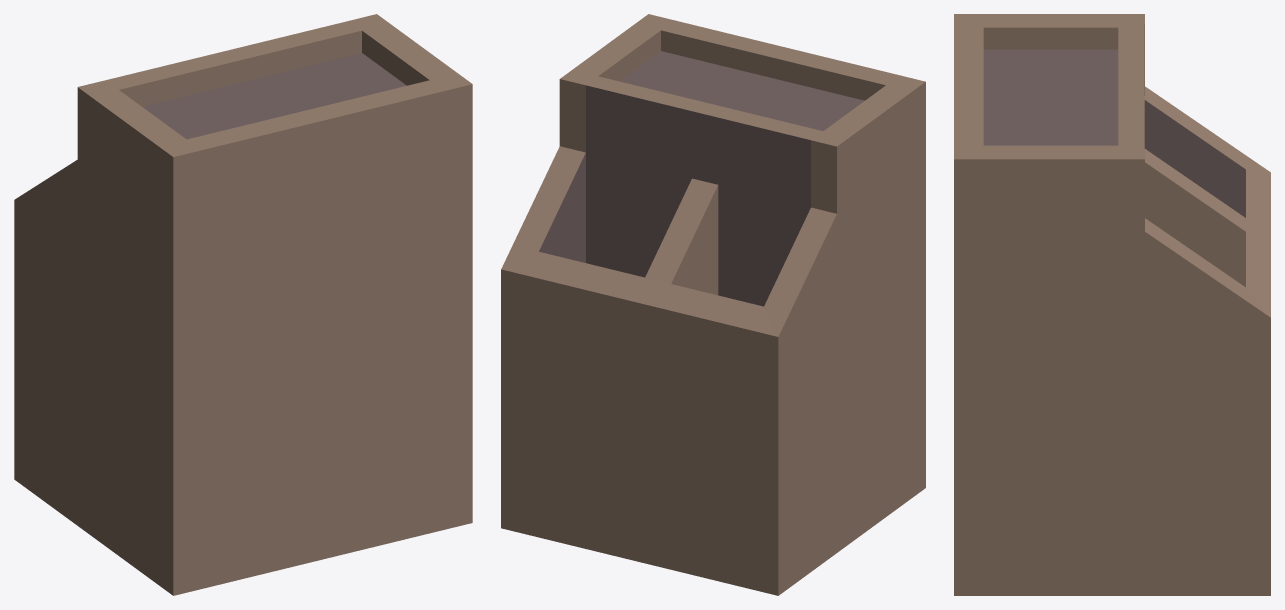
Rendered from Shelf_geo.fbx.
3 renders of one model, left to right at view 1: azimuth 30°, elevation 25°; view 2: azimuth 150°, elevation 25°; view 3: azimuth 270°, elevation 25°, orthographic. The views are drawn at different scales.
Visible parts, largest first — view 1: Shelf_geo; view 2: Shelf_geo; view 3: Shelf_geo.
Part boxes in pixels (x1=…): Shelf_geo: x1=14, y1=14, x2=472, y2=595; Shelf_geo: x1=501, y1=14, x2=925, y2=595; Shelf_geo: x1=954, y1=14, x2=1270, y2=595.
Size of the model in its own units: 0.7303 by 0.6726 by 1.02.
